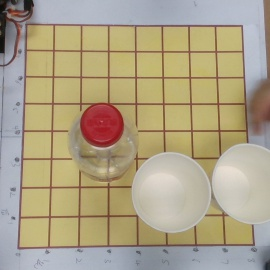bottle: (59, 103, 138, 183)
cup: (127, 150, 211, 239), (202, 139, 270, 228)
